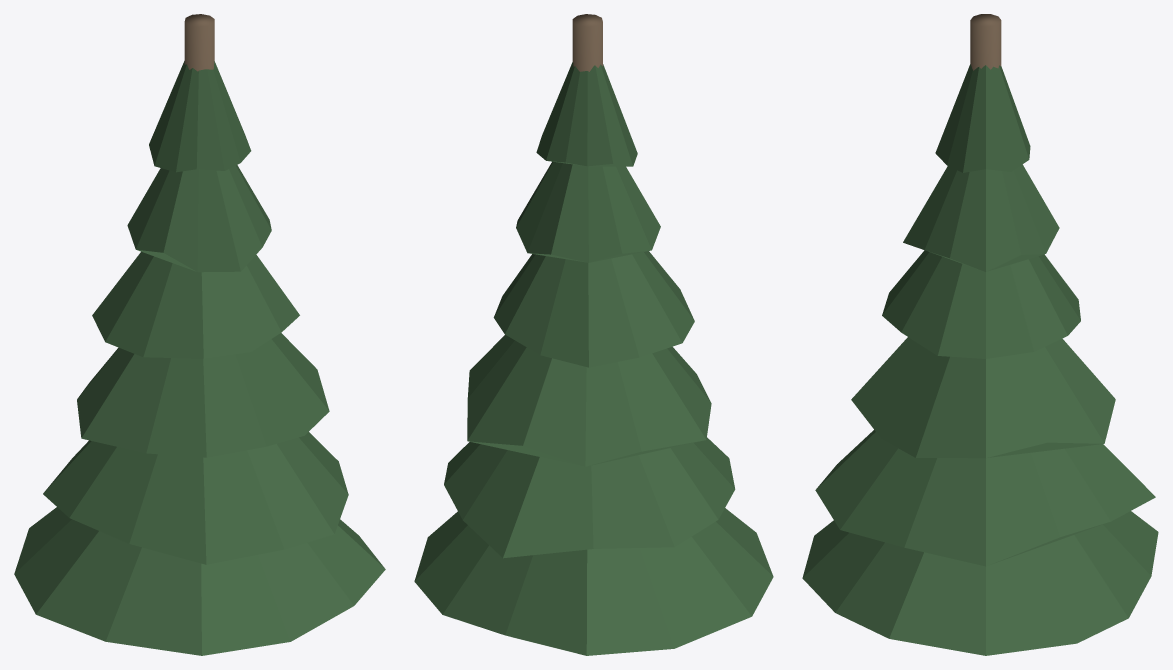
File: MRW_Conifera.glb
The picture shows the model from 3 angles, left to right: view 1: azimuth 30°, elevation 25°; view 2: azimuth 150°, elevation 25°; view 3: azimuth 270°, elevation 25°; orthographic projection.
Visible parts, largest first — view 1: MRW_Conifera; view 2: MRW_Conifera; view 3: MRW_Conifera.
Boxes of the visible parts, box(x1,y1,x2,y2) form: MRW_Conifera: box(14, 14, 385, 655); MRW_Conifera: box(414, 14, 773, 655); MRW_Conifera: box(802, 14, 1158, 655).
Bounding box in the file's own units: 5.33 × 9.5 × 5.05.
